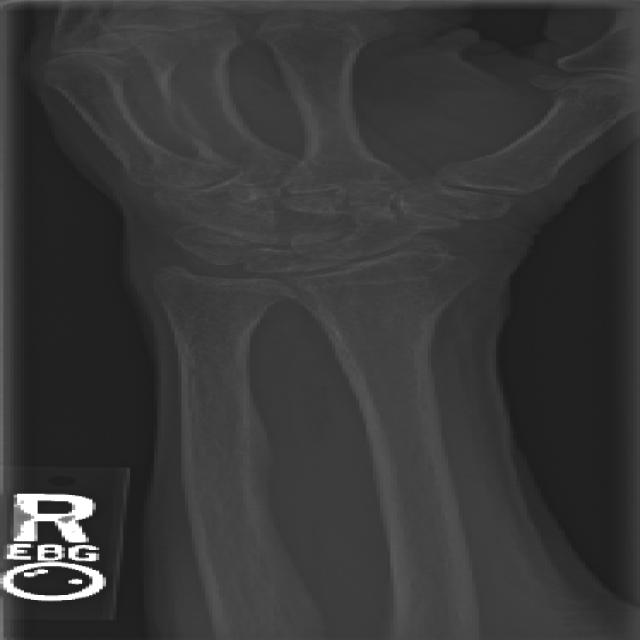fingers positive: (292, 253, 510, 322), (223, 174, 373, 236)
